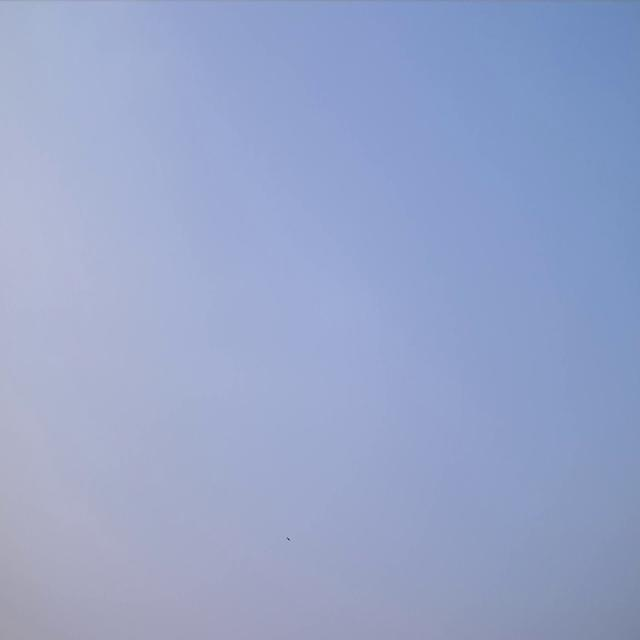UAV: (286, 536, 290, 542)
